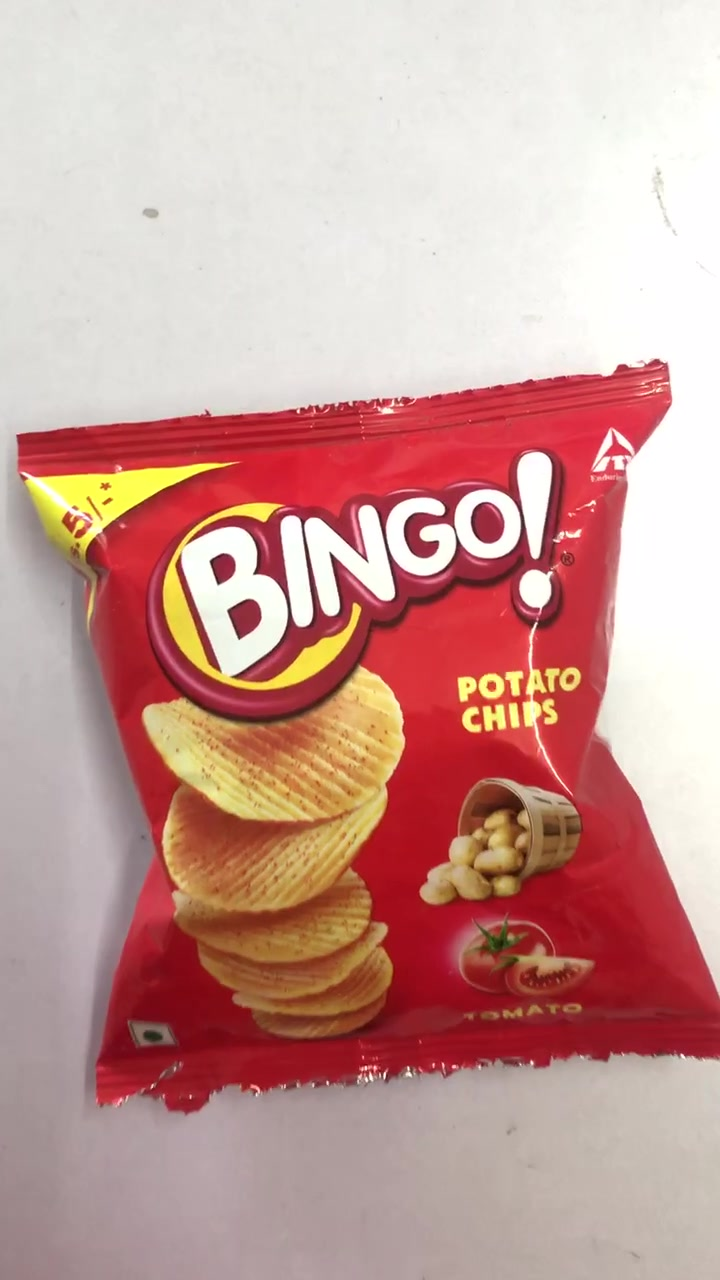Bingo: (28, 430, 712, 1070)
